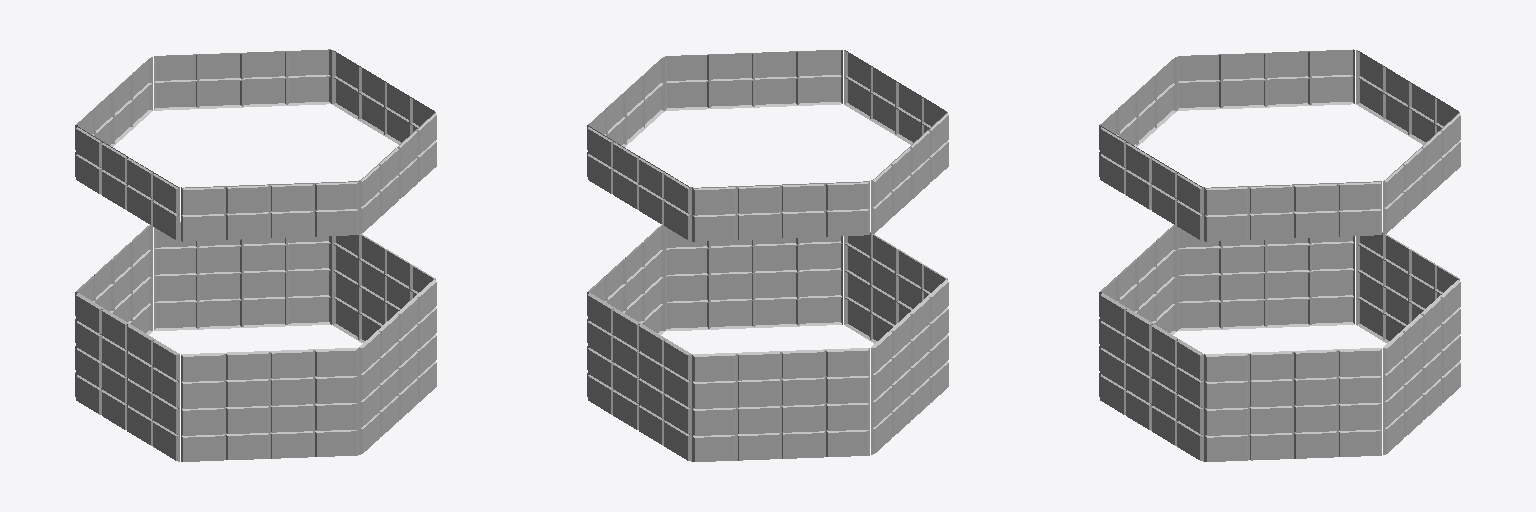
File: displaytegels.obj
3 views of the same model, side by side, from view 1: azimuth 30°, elevation 25°; view 2: azimuth 150°, elevation 25°; view 3: azimuth 270°, elevation 25° (orthographic).
Parts seen in each view (by area): view 1: tegelsdisplay002; view 2: tegelsdisplay002; view 3: tegelsdisplay002.
Part boxes in pixels (x1,y1,x2,y2): tegelsdisplay002: (75,49,436,461); tegelsdisplay002: (587,50,948,461); tegelsdisplay002: (1099,49,1460,461).
Size of the model in its own units: 2.34 by 2.14 by 2.55.